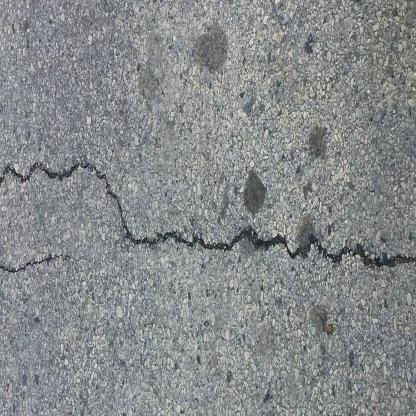Cracks: (0, 164, 416, 295)
